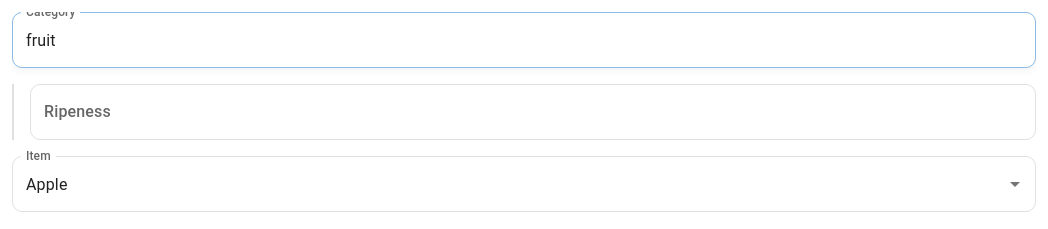
Test: one selection drives BOTH dependent options AND a subform › switching category updates BOTH: subform swaps and an invalid dependent value clears
Check: the field labelled "Ripeness" is shown, box [30,84,1036,140]
Replace the text in the field labelled "Category" with "tool" at coordinates (524, 40), box [12,12,1036,68]
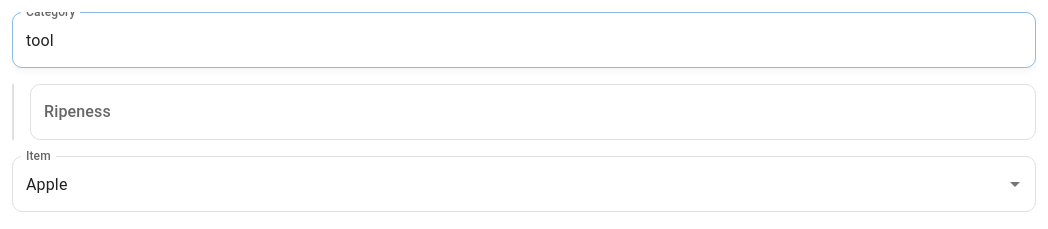
Leave the field labelled "Category", box [12,12,1036,68]
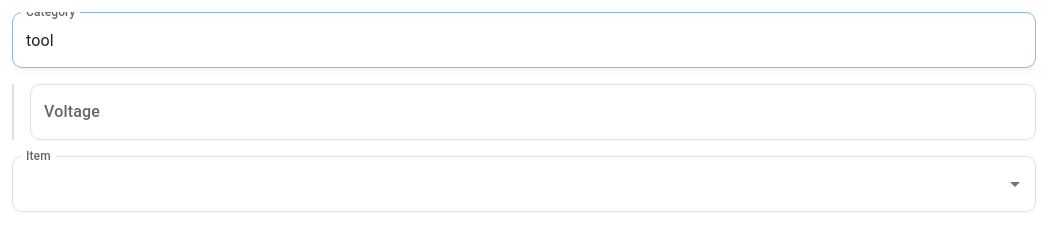
Check: the field labelled "Voltage" is shown, box [30,84,1036,140]
Check: the label labelled "Ripeness" is gone
